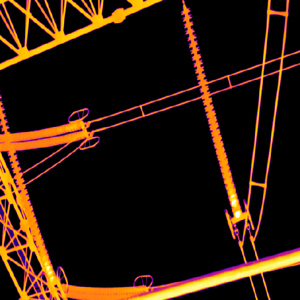insulator: (182, 3, 241, 216), (0, 95, 56, 283), (0, 118, 90, 151), (60, 281, 148, 300)
